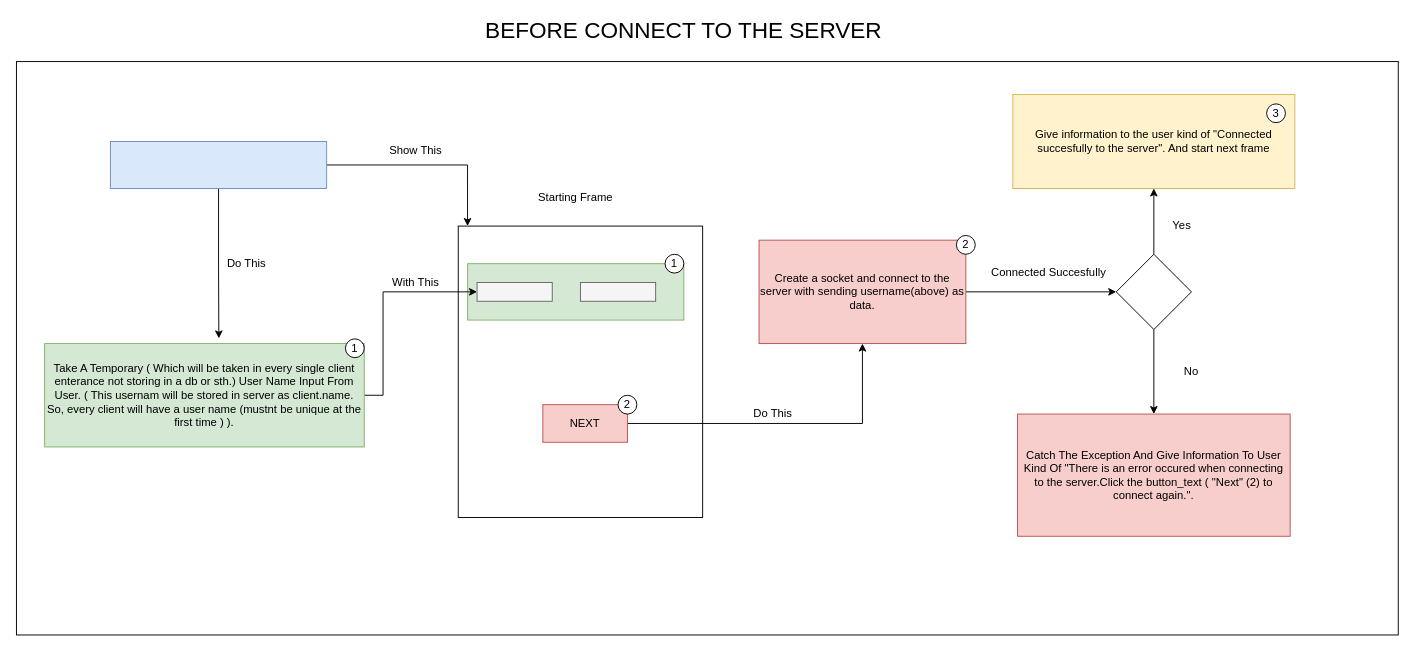
Some shapes in this 1415 by 651 pixel diagram are drawn without their labels. The shapes that lost their labels are listed below. From the top down, each one's centre as x and y in pixels, then its label:
At [218,164]: "When The System Starts".
At [514,291]: "User Name:".
